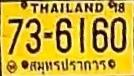0: (110, 16, 126, 52)
1: (78, 17, 84, 52), (79, 17, 84, 52)
3: (25, 17, 40, 53)
6: (55, 17, 71, 52), (92, 17, 107, 52)
7: (8, 18, 22, 54)
SPK: (26, 57, 109, 75)
